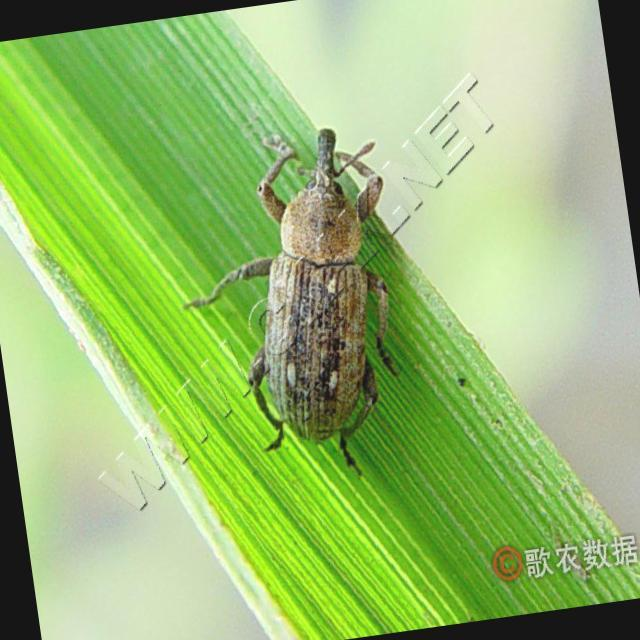ricebug: (187, 128, 396, 467)
